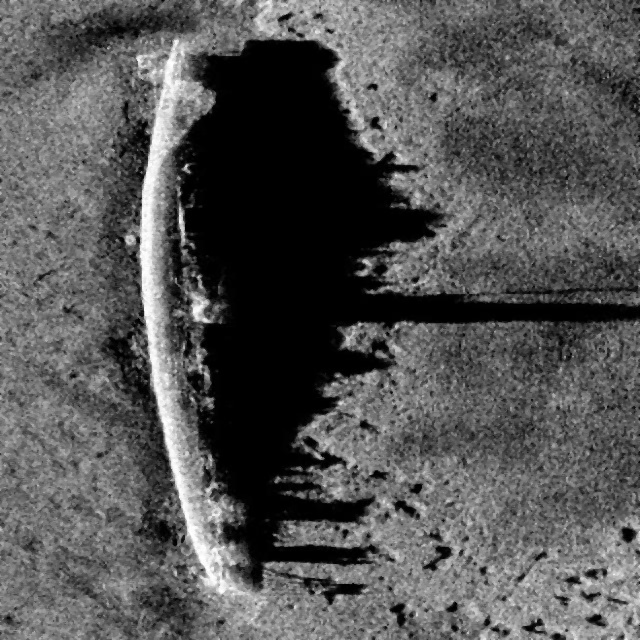Ship: (110, 25, 333, 606)
